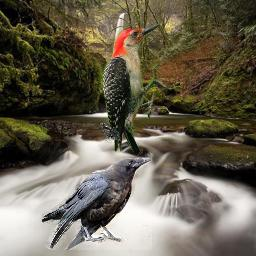Crow: (41, 157, 152, 250), (100, 123, 121, 143)
Woodpecker: (102, 24, 170, 152)
